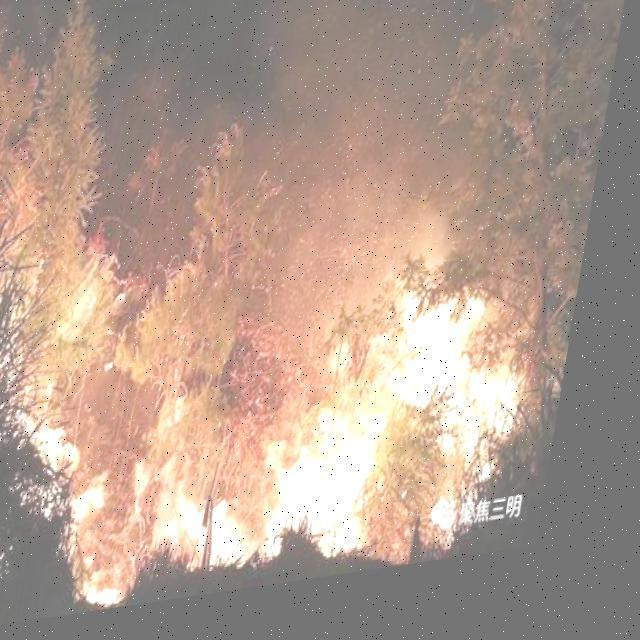Fire: (0, 154, 577, 619)
